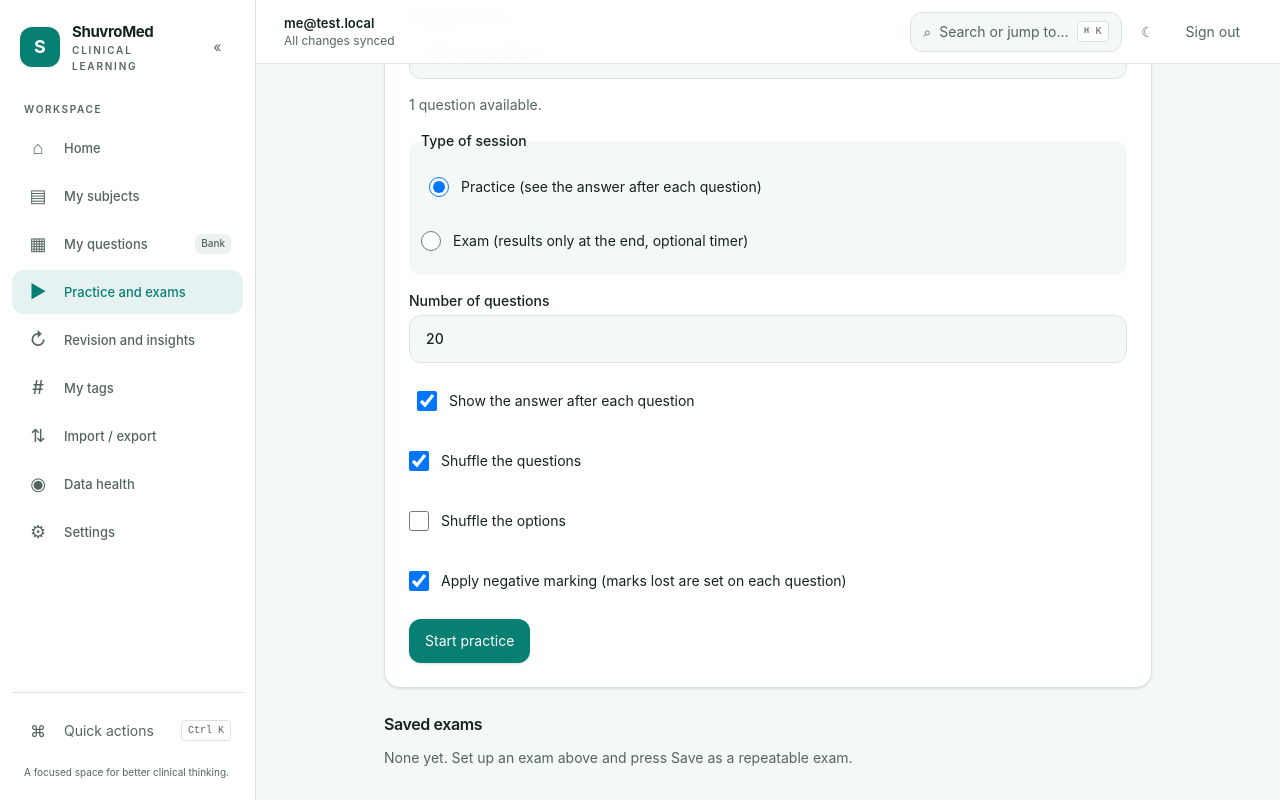
Test case: first screen after the cutover › shows an unfinished session to continue
This screenshot has width=1280, height=800.
Later steps or results of the test are not shown.
(page scrolled)
Expected: the text "1 question available." is shown, [409,96,542,112]
What coordinates should you click on to do the following:
click the button "Start practice"
I would click on:
 (470, 640)
Its box is [409,618,530,662].
(page scrolled)
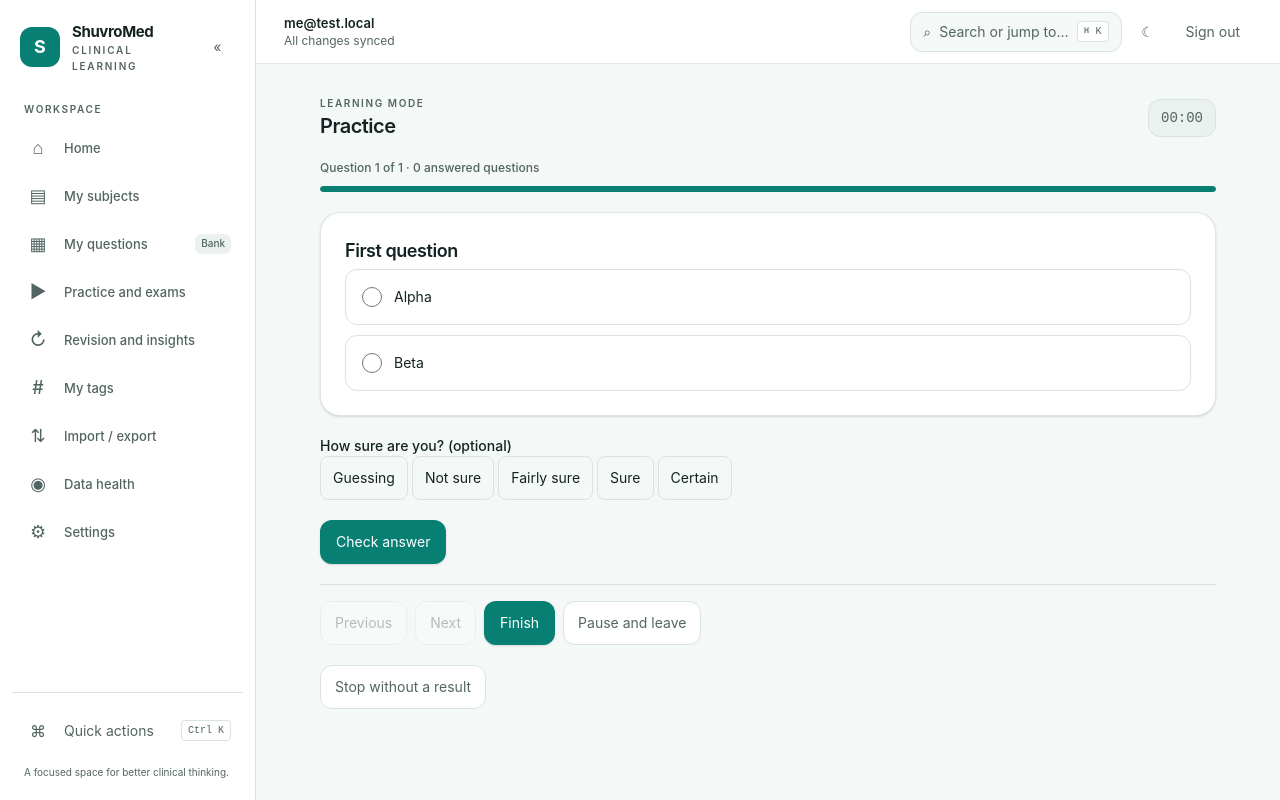
Expected: the text "Question 1 of 1 · 0 answered questions" is shown, [320,160,540,174]
